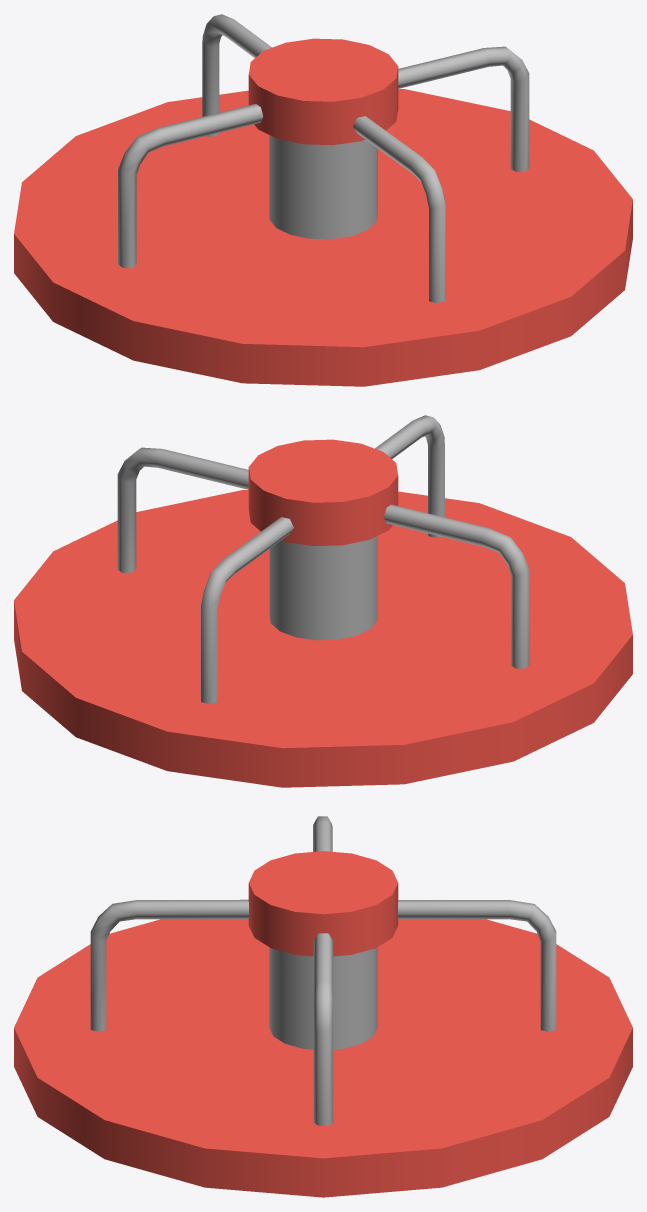
Rendered from carousel.fbx.
The picture shows the model from 3 angles, top to bottom: view 1: azimuth 30°, elevation 25°; view 2: azimuth 150°, elevation 25°; view 3: azimuth 270°, elevation 25°; orthographic projection.
Parts seen in each view (by area): view 1: carousel; view 2: carousel; view 3: carousel.
Part boxes in pixels (x1,y1,x2,y2): carousel: (14, 14, 632, 386); carousel: (14, 415, 632, 787); carousel: (14, 816, 632, 1197).
Bounding box in the file's own units: 71.62 × 23.51 × 71.62.
